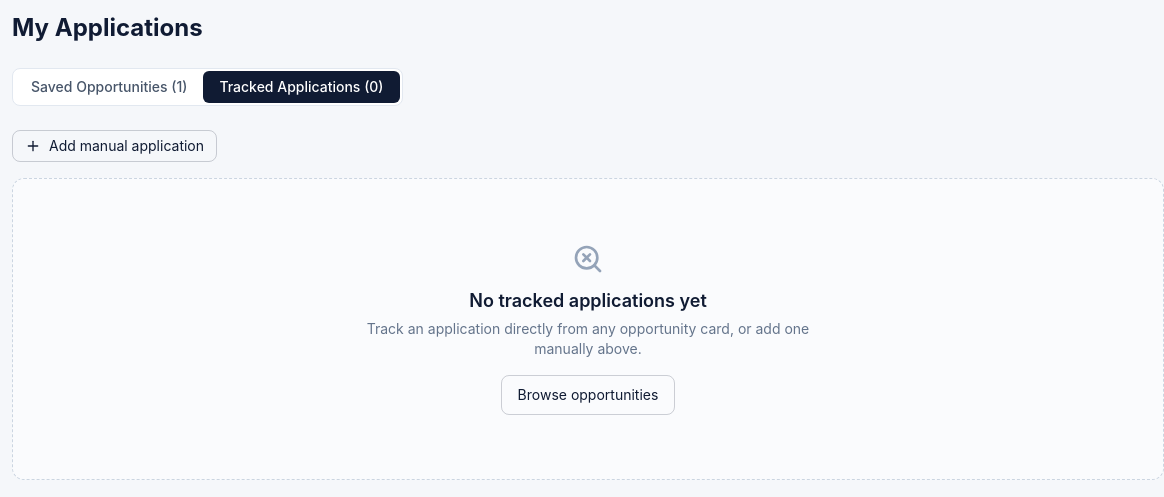
MyApplications › shows saved opportunities in the Saved tab
This screenshot has width=1164, height=497.
Click the tab "Saved Opportunities (1)".
click(109, 87)  # box [15,71,203,103]
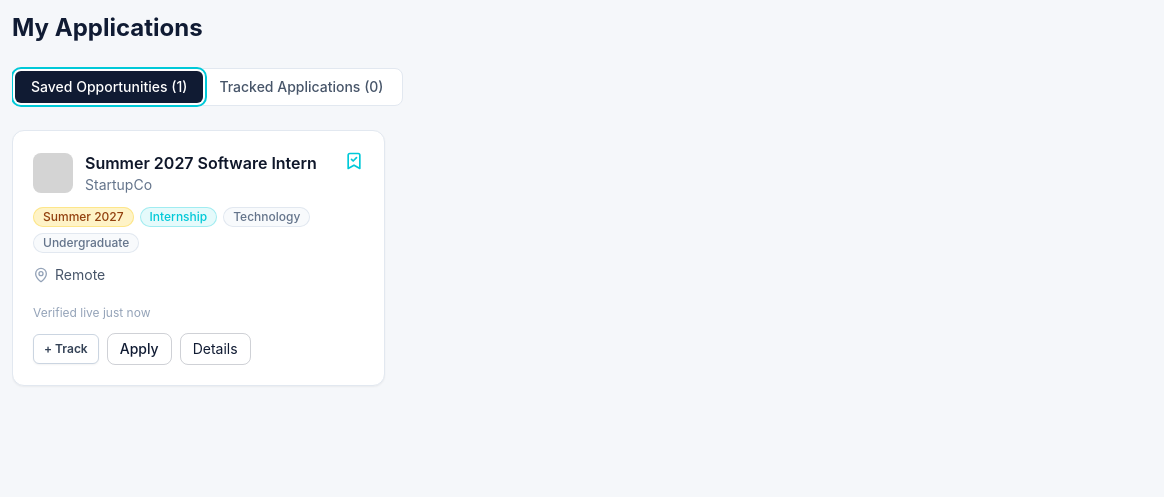
Expected: the link "Summer 2027 Software Intern" is shown, [85,151,317,175]
